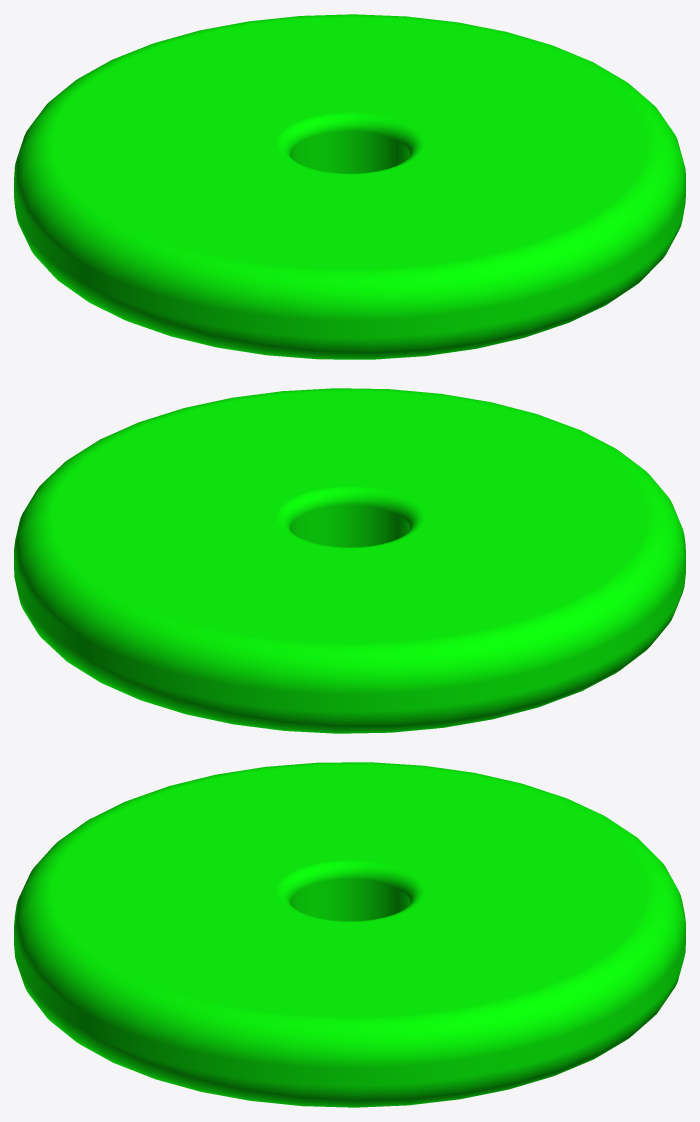
Rendered from disk1.dae.
The picture shows the model from 3 angles, top to bottom: view 1: azimuth 30°, elevation 25°; view 2: azimuth 150°, elevation 25°; view 3: azimuth 270°, elevation 25°; orthographic projection.
Parts seen in each view (by area): view 1: ID2; view 2: ID2; view 3: ID2.
Boxes of the visible parts, box(x1,y1,x2,y2) form: ID2: box(14, 14, 685, 359); ID2: box(14, 388, 685, 733); ID2: box(14, 762, 685, 1107).
Bounding box in the file's own units: 0.07 × 0.07 × 0.01.
